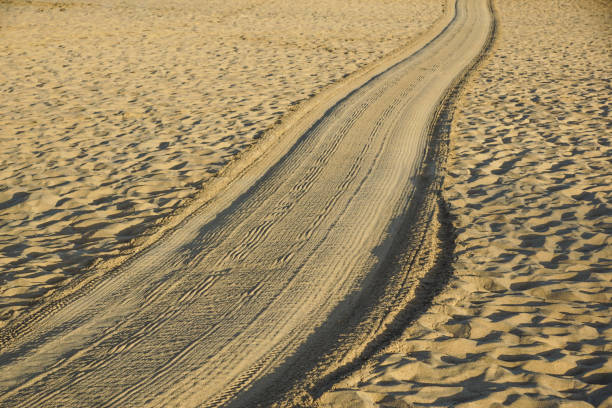vehicle_track: (0, 0, 490, 405)
